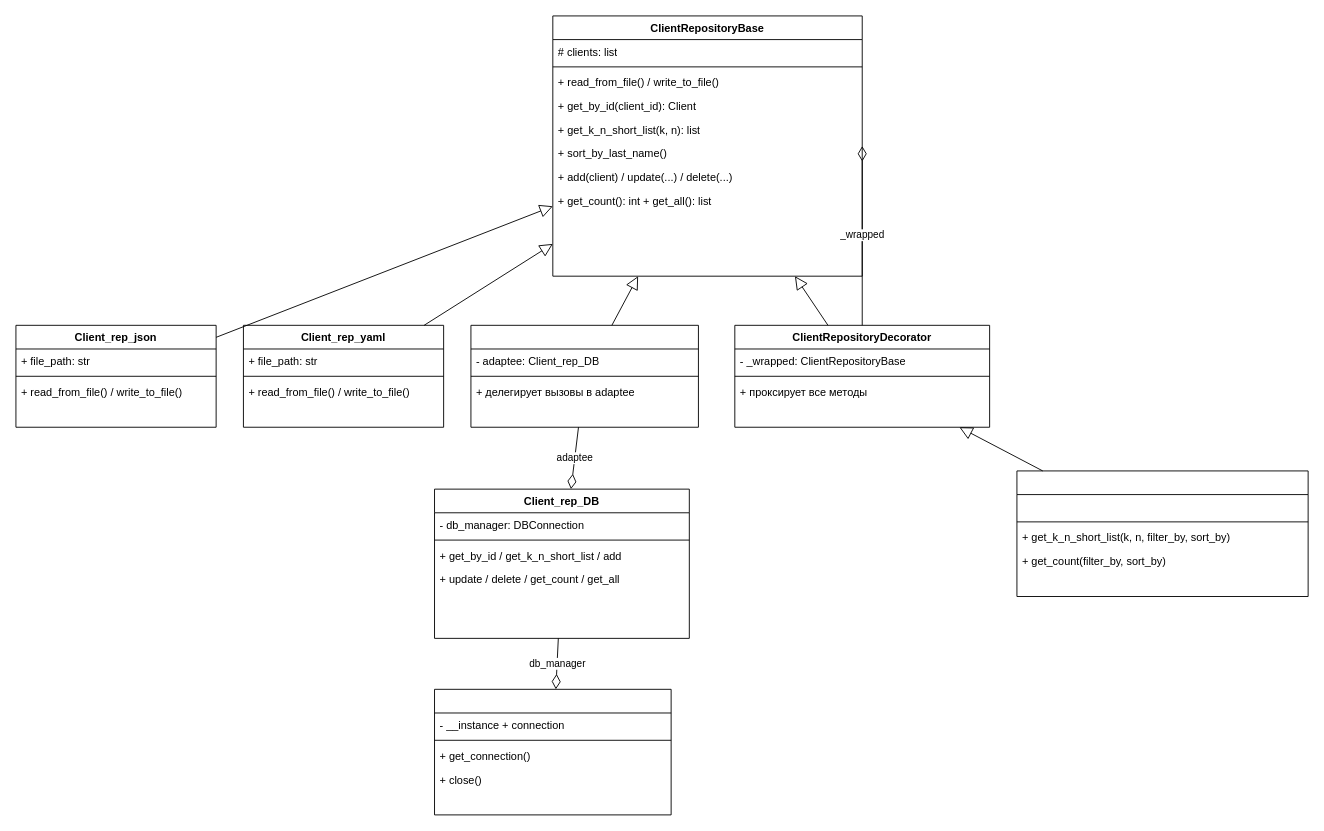
This 1324x831 diagram has some shape labels left out. The box of each missing label's shape, as (x1, y1, x2, y2) in pixels:
Client_rep_DB_Adapter: (470, 324, 698, 427)
ClientRepositoryFilterSortDecorator: (1016, 470, 1308, 597)
DBConnection (Singleton): (434, 688, 671, 815)
